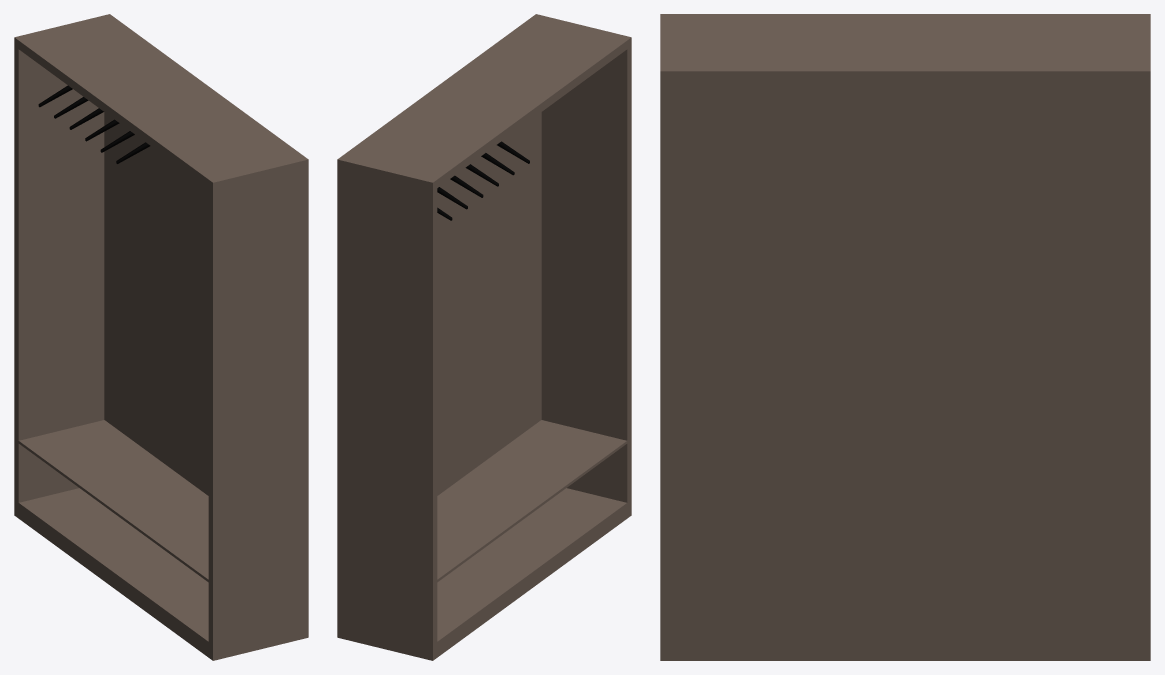
The model's file is ClothHanger.fbx.
3 views of the same model, side by side, from view 1: azimuth 30°, elevation 25°; view 2: azimuth 150°, elevation 25°; view 3: azimuth 270°, elevation 25° (orthographic). The views are drawn at different scales.
Visible parts, largest first — view 1: ClothHanger; view 2: ClothHanger; view 3: ClothHanger.
Part boxes in pixels (box(x1,y1,x2,y2)): ClothHanger: box(14, 14, 308, 660); ClothHanger: box(337, 14, 631, 660); ClothHanger: box(660, 14, 1150, 660).
Bounding box in the file's own units: 39.59 × 189 × 143.
